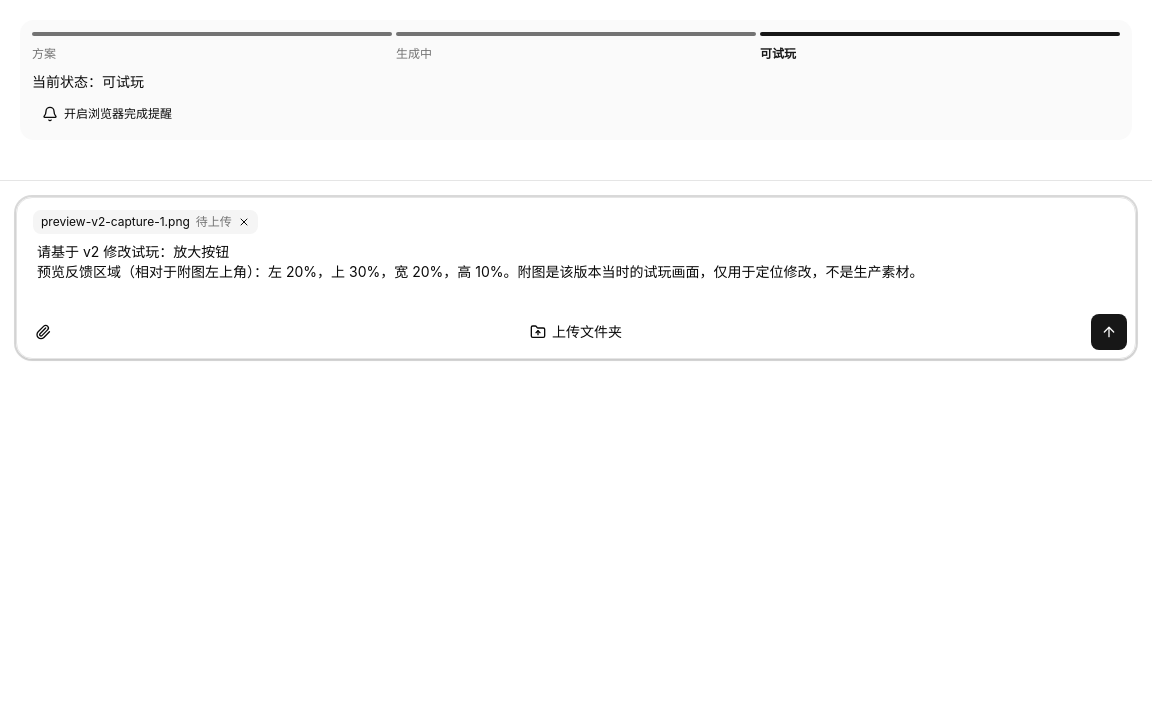
it: preview feedback › stages feedback as a screenshot attachment and sends its locked base version
Click the button named "发送需求" at (1109, 332), box [1091,314,1127,350]
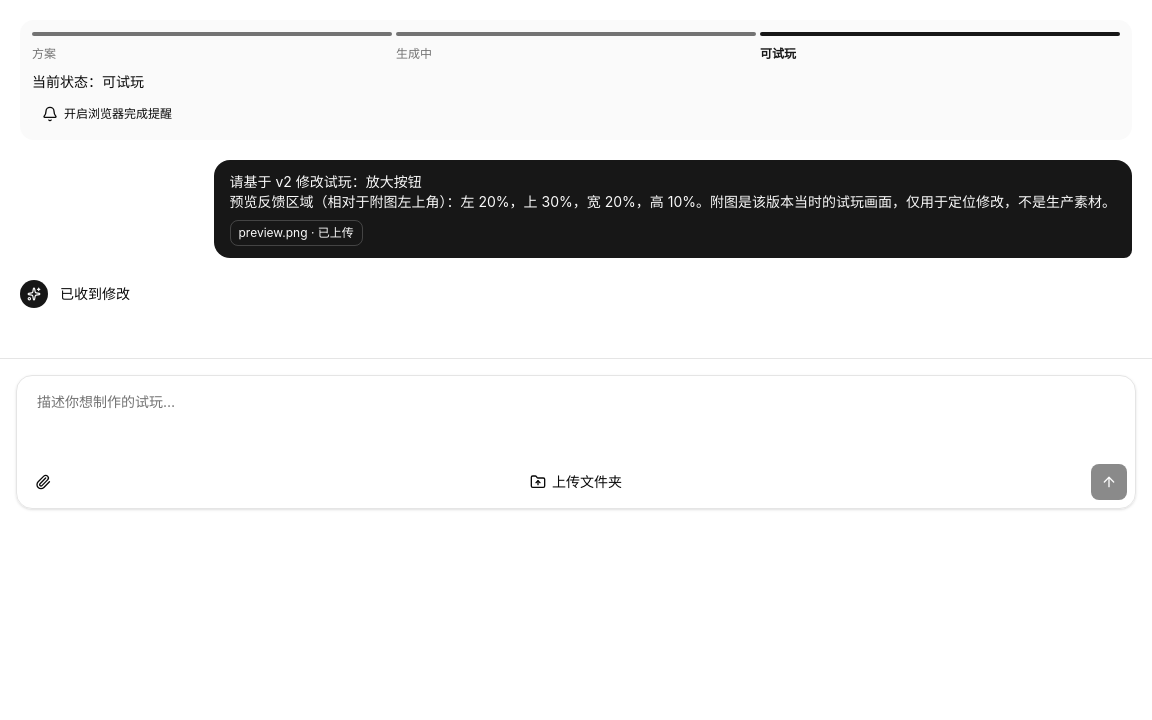
Expected: the text "已收到修改" is shown, [60,285,130,302]
